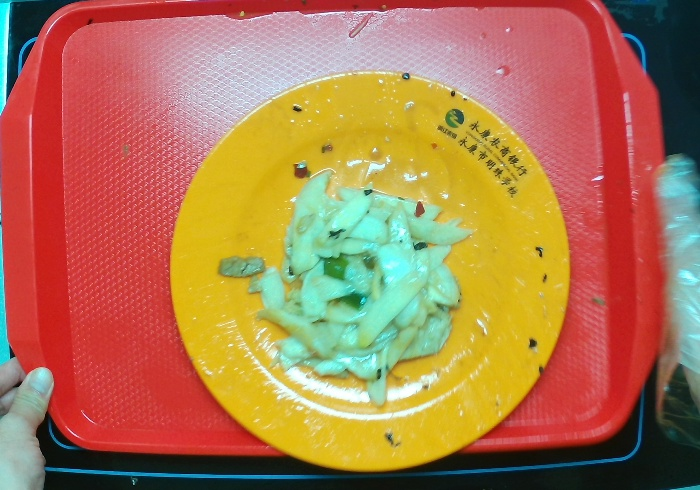YKMZ-Ju_Se_Mian_Pan: (169, 68, 573, 476)
